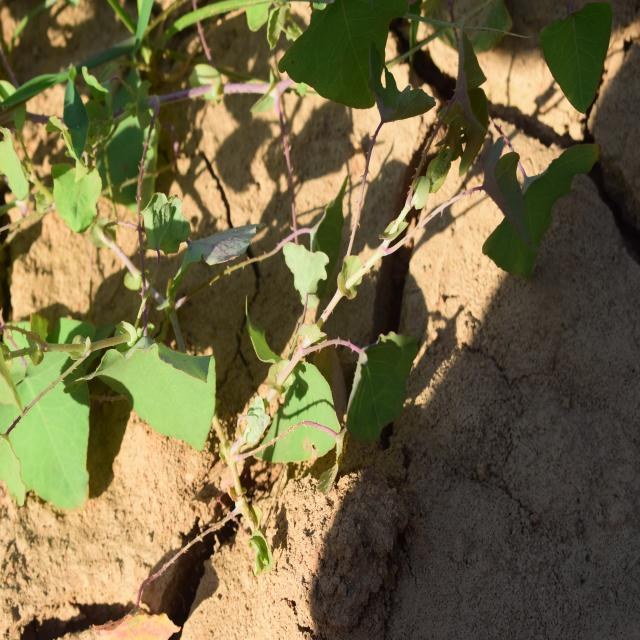Asiatic_Smartweed: (1, 302, 223, 505), (254, 157, 408, 445), (433, 50, 598, 281)
